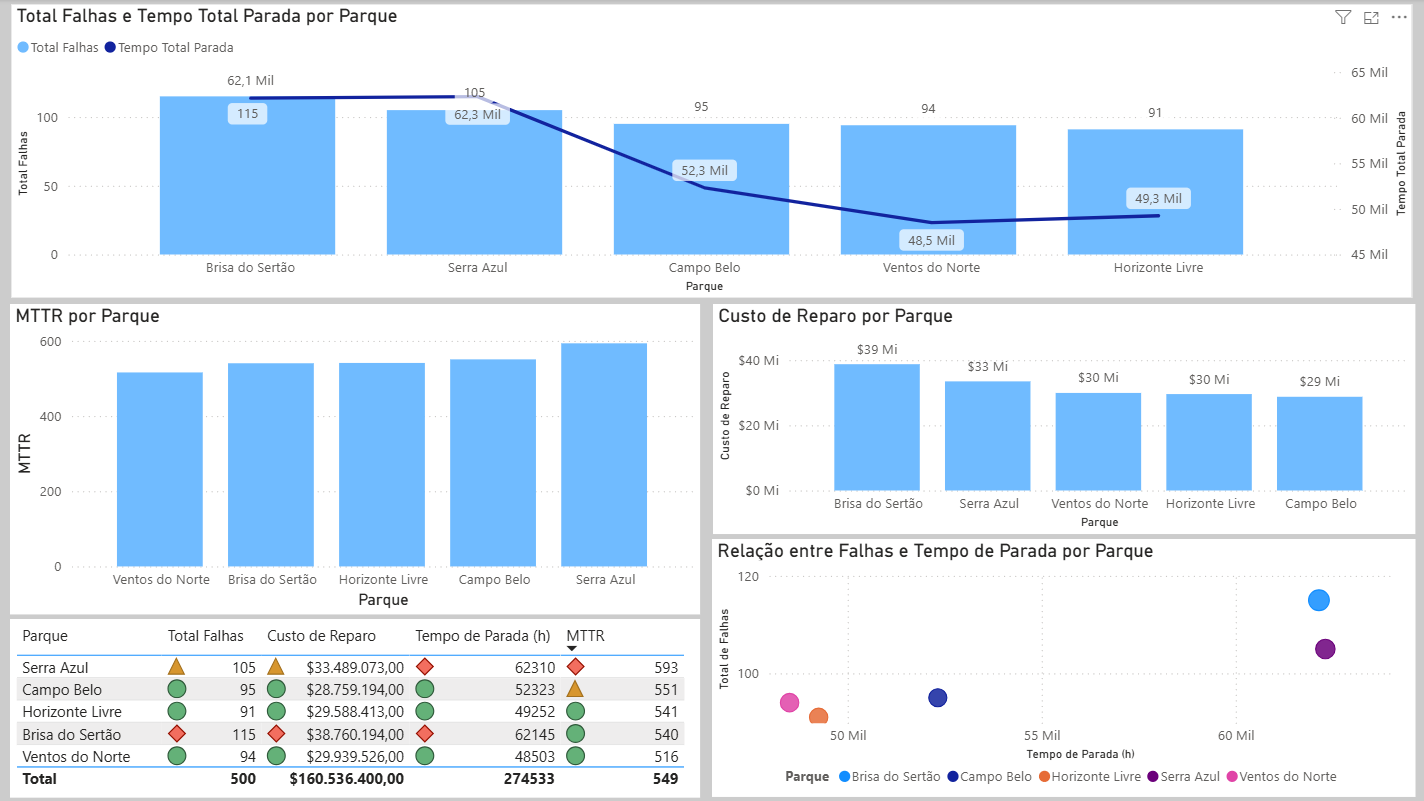

What the dashboard file says about the page in this screenshot:
{"tool":"powerbi","page":{"name":"Análise de Ativos","canvas":[1280,720],"ordinal":1},"visuals":[{"type":"columnChart","fields":{"Category":["base_manutencao_aerogeradores_powerbi.Parque"],"Y":["Sum(base_manutencao_aerogeradores_powerbi.Custo_Reparo)"]},"box":[640,273,629,206],"z":0},{"type":"lineStackedColumnComboChart","fields":{"Y":["base_manutencao_aerogeradores_powerbi.Total Falhas"],"Category":["base_manutencao_aerogeradores_powerbi.Parque"],"Y2":["base_manutencao_aerogeradores_powerbi.Tempo Total Parada"]},"box":[11.3,4.7,1255.3,263.3],"z":1000},{"type":"tableEx","fields":{"Values":["base_manutencao_aerogeradores_powerbi.Parque","base_manutencao_aerogeradores_powerbi.Total Falhas","Sum(base_manutencao_aerogeradores_powerbi.Custo_Reparo)","Sum(base_manutencao_aerogeradores_powerbi.Tempo_Parada_h)","base_manutencao_aerogeradores_powerbi.MTTR"]},"box":[11,555,618,160],"z":2000},{"type":"columnChart","fields":{"Category":["base_manutencao_aerogeradores_powerbi.Parque"],"Y":["base_manutencao_aerogeradores_powerbi.MTTR"]},"box":[11,273,618,278],"z":3000},{"type":"scatterChart","title":"Relação entre Falhas e Tempo de Parada por Parque","fields":{"X":["Sum(base_manutencao_aerogeradores_powerbi.Tempo_Parada_h)"],"Y":["base_manutencao_aerogeradores_powerbi.Total Falhas"],"Size":["Sum(base_manutencao_aerogeradores_powerbi.Custo_Reparo)"],"Series":["base_manutencao_aerogeradores_powerbi.Parque"]},"box":[639,484,630,231],"z":4000}]}

Visuals, with their boxes in screenshot pixels (x1, y1, x2, y2), scaled from the page's 1280x720 canvas onto the 1424x801 screenshot:
columnChart - base_manutencao_aerogeradores_powerbi.Parque x Sum(base_manutencao_aerogeradores_powerbi.Custo_Reparo): Rect(712, 304, 1412, 533)
lineStackedColumnComboChart - base_manutencao_aerogeradores_powerbi.Total Falhas x base_manutencao_aerogeradores_powerbi.Parque: Rect(13, 5, 1409, 298)
tableEx - base_manutencao_aerogeradores_powerbi.Parque x base_manutencao_aerogeradores_powerbi.Total Falhas: Rect(12, 617, 700, 795)
columnChart - base_manutencao_aerogeradores_powerbi.Parque x base_manutencao_aerogeradores_powerbi.MTTR: Rect(12, 304, 700, 613)
"Relação entre Falhas e Tempo de Parada por Parque" scatterChart: Rect(711, 538, 1412, 795)
